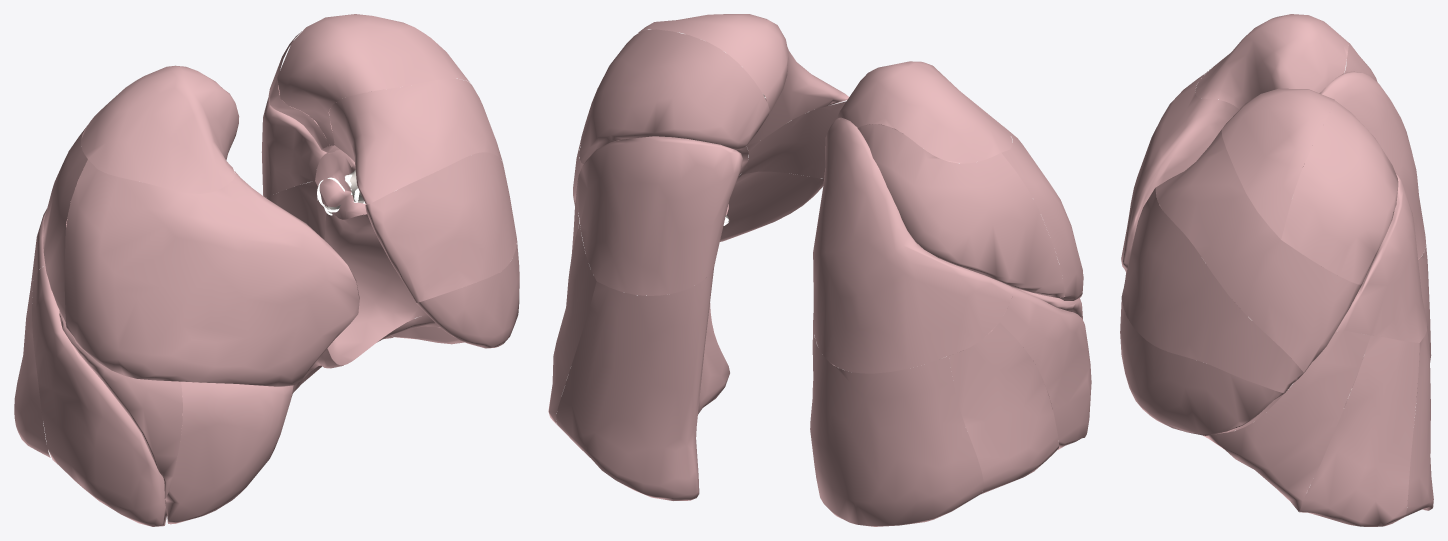
The model's file is 3d-vh-f-lung.glb.
The picture shows the model from 3 angles, left to right: view 1: azimuth 30°, elevation 25°; view 2: azimuth 150°, elevation 25°; view 3: azimuth 270°, elevation 25°; orthographic projection. The views are drawn at different scales.
Parts seen in each view (by area): view 1: VH_F_right_anterior_bronchopulmonary_segm, VH_F_right_anterior_basal_bronchopulmonary_segment, VH_F_lingula_superior_bronchopulmonary_segment, VH_F_right_apical_bronchopulmonary_segment, VH_F_left_anterior_bronchopulmonary_segment, VH_F_left_apical_bronchopulmonary_segment, VH_F_right_medial_bronchopulmonary_segment, VH_F_left_medial_basal_bronchopulmonary_segment, VH_F_lingula_inferior_bronchopulmonary_segment, VH_F_right_lateral_bronchopulmonary_segmennt, VH_F_left_superior_bronchopulmonary_segment, VH_F_right_posterior_bronchopulmonary_segment (+6 smaller); view 2: VH_F_right_superior_bronchopulmonary_segment, VH_F_left_posterior_basal_bronchopulmonary_segment, VH_F_right_posterior_basal_bronchopulmonary_segment, VH_F_left_superior_bronchopulmonary_segment, VH_F_right_posterior_bronchopulmonary_segment, VH_F_left_posterior_bronchopulmonary_segment, VH_F_right_lateral_basal_bronchopulmonary_segment, VH_F_right_apical_bronchopulmonary_segment, VH_F_right_anterior_basal_bronchopulmonary_segment, VH_F_left_apical_bronchopulmonary_segment, VH_F_lingula_inferior_bronchopulmonary_segment, VH_F_lingula_superior_bronchopulmonary_segment (+3 smaller); view 3: VH_F_left_anterior_bronchopulmonary_segment, VH_F_lingula_superior_bronchopulmonary_segment, VH_F_left_lateral_basal_bronchopulmonary_segment, VH_F_left_posterior_bronchopulmonary_segment, VH_F_left_anterior_basal_bronchopulmonary_segment, VH_F_lingula_inferior_bronchopulmonary_segment, VH_F_left_apical_bronchopulmonary_segment, VH_F_right_apical_bronchopulmonary_segment, VH_F_left_superior_bronchopulmonary_segment, VH_F_right_anterior_bronchopulmonary_segm, VH_F_right_superior_bronchopulmonary_segment, VH_F_left_posterior_basal_bronchopulmonary_segment (+2 smaller).
Part boxes in pixels (x1,y1,x2,y2): VH_F_right_anterior_bronchopulmonary_segm: (64,159,359,386); VH_F_right_anterior_basal_bronchopulmonary_segment: (32,266,182,526); VH_F_lingula_superior_bronchopulmonary_segment: (365,152,516,302); VH_F_right_apical_bronchopulmonary_segment: (81,65,239,193); VH_F_left_anterior_bronchopulmonary_segment: (329,79,502,204); VH_F_left_apical_bronchopulmonary_segment: (277,14,469,145); VH_F_right_medial_bronchopulmonary_segment: (164,381,293,524); VH_F_left_medial_basal_bronchopulmonary_segment: (324,170,438,365); VH_F_lingula_inferior_bronchopulmonary_segment: (416,241,519,348); VH_F_right_lateral_bronchopulmonary_segmennt: (59,311,182,498); VH_F_left_superior_bronchopulmonary_segment: (261,85,334,197); VH_F_right_posterior_bronchopulmonary_segment: (43,126,87,325); VH_F_right_superior_bronchopulmonary_segment: (813,117,1013,373); VH_F_left_posterior_basal_bronchopulmonary_segment: (556,266,729,500); VH_F_right_posterior_basal_bronchopulmonary_segment: (810,320,983,526); VH_F_left_superior_bronchopulmonary_segment: (576,136,742,295); VH_F_right_posterior_bronchopulmonary_segment: (857,124,1064,297); VH_F_left_posterior_bronchopulmonary_segment: (579,29,769,164); VH_F_right_lateral_basal_bronchopulmonary_segment: (948,323,1059,494); VH_F_right_apical_bronchopulmonary_segment: (837,61,1012,163); VH_F_right_anterior_basal_bronchopulmonary_segment: (1000,286,1091,449); VH_F_left_apical_bronchopulmonary_segment: (638,14,788,112); VH_F_lingula_inferior_bronchopulmonary_segment: (720,171,823,241); VH_F_lingula_superior_bronchopulmonary_segment: (578,101,846,210); VH_F_left_anterior_bronchopulmonary_segment: (1155,130,1362,372); VH_F_lingula_superior_bronchopulmonary_segment: (1121,188,1303,393); VH_F_left_lateral_basal_bronchopulmonary_segment: (1300,335,1419,526); VH_F_left_posterior_bronchopulmonary_segment: (1281,100,1398,284); VH_F_left_anterior_basal_bronchopulmonary_segment: (1203,330,1370,512); VH_F_lingula_inferior_bronchopulmonary_segment: (1120,300,1284,435); VH_F_left_apical_bronchopulmonary_segment: (1221,88,1334,239); VH_F_right_apical_bronchopulmonary_segment: (1195,14,1349,109); VH_F_left_superior_bronchopulmonary_segment: (1335,173,1426,342); VH_F_right_anterior_bronchopulmonary_segm: (1121,69,1239,272); VH_F_right_superior_bronchopulmonary_segment: (1303,71,1425,259); VH_F_left_posterior_basal_bronchopulmonary_segment: (1405,326,1433,516).
Size of the model in its own units: 0.2512 by 0.223 by 0.1527.
